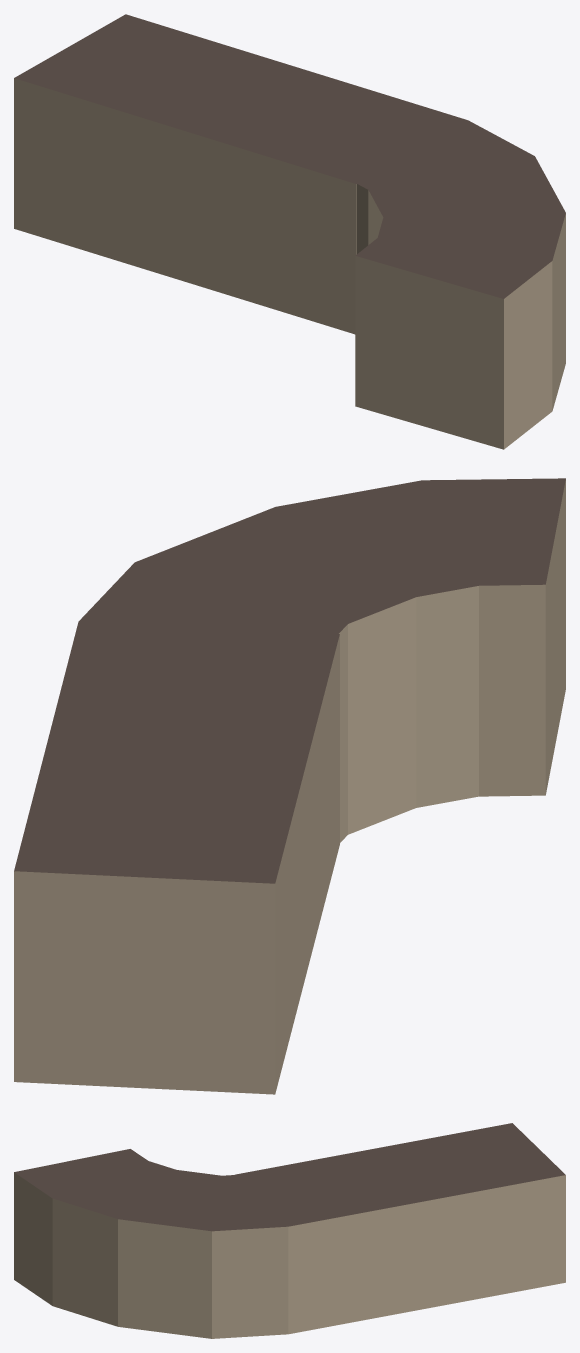
3 views of the same model, one above another, from view 1: azimuth 30°, elevation 25°; view 2: azimuth 150°, elevation 25°; view 3: azimuth 270°, elevation 25° (orthographic). The views are drawn at different scales.
Parts seen in each view (by area): view 1: HP-w859086180; view 2: HP-w859086180; view 3: HP-w859086180.
Part boxes in pixels (x1,y1,x2,y2): HP-w859086180: (14, 14, 565, 449); HP-w859086180: (14, 478, 565, 1094); HP-w859086180: (14, 1123, 565, 1338).
Size of the model in its own units: 19.42 by 9 by 41.82.
